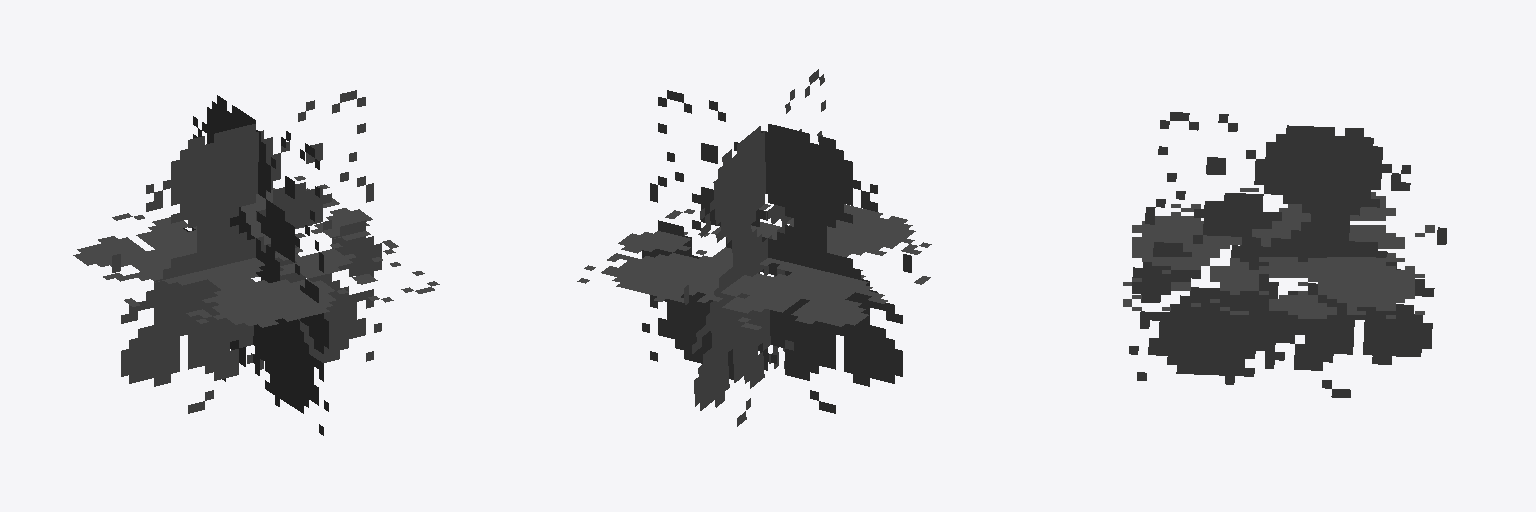
The picture shows the model from 3 angles: view 1: azimuth 30°, elevation 25°; view 2: azimuth 150°, elevation 25°; view 3: azimuth 270°, elevation 25°; orthographic projection.
Visible parts, largest first — view 1: Plane; view 2: Plane; view 3: Plane.
Part boxes in pixels (bbox=[...]): Plane: bbox=[73, 90, 439, 435]; Plane: bbox=[577, 69, 931, 426]; Plane: bbox=[1123, 112, 1446, 397].
Size of the model in its own units: 2 by 2.09 by 2.09.
Materials: 1 (1 with a texture image).